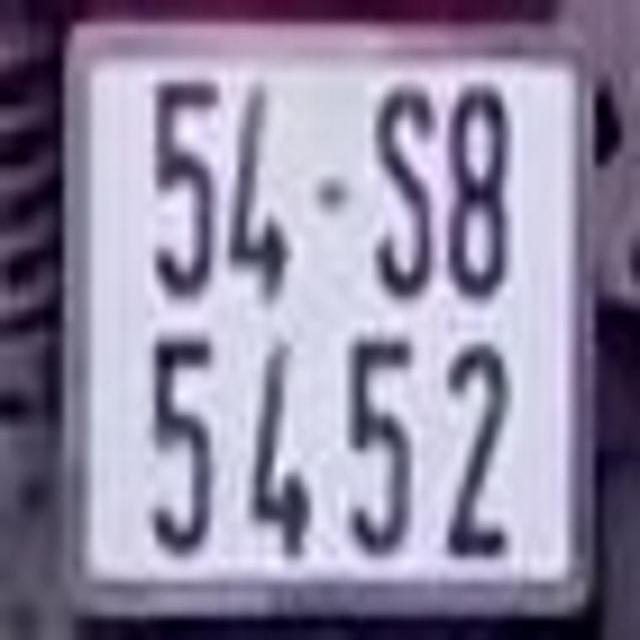2: (447, 348, 507, 556)
4: (245, 338, 318, 559), (226, 77, 290, 300)
5: (152, 79, 218, 292), (346, 338, 409, 554), (152, 338, 212, 557)
8: (448, 89, 509, 298)
S: (368, 83, 436, 303)
